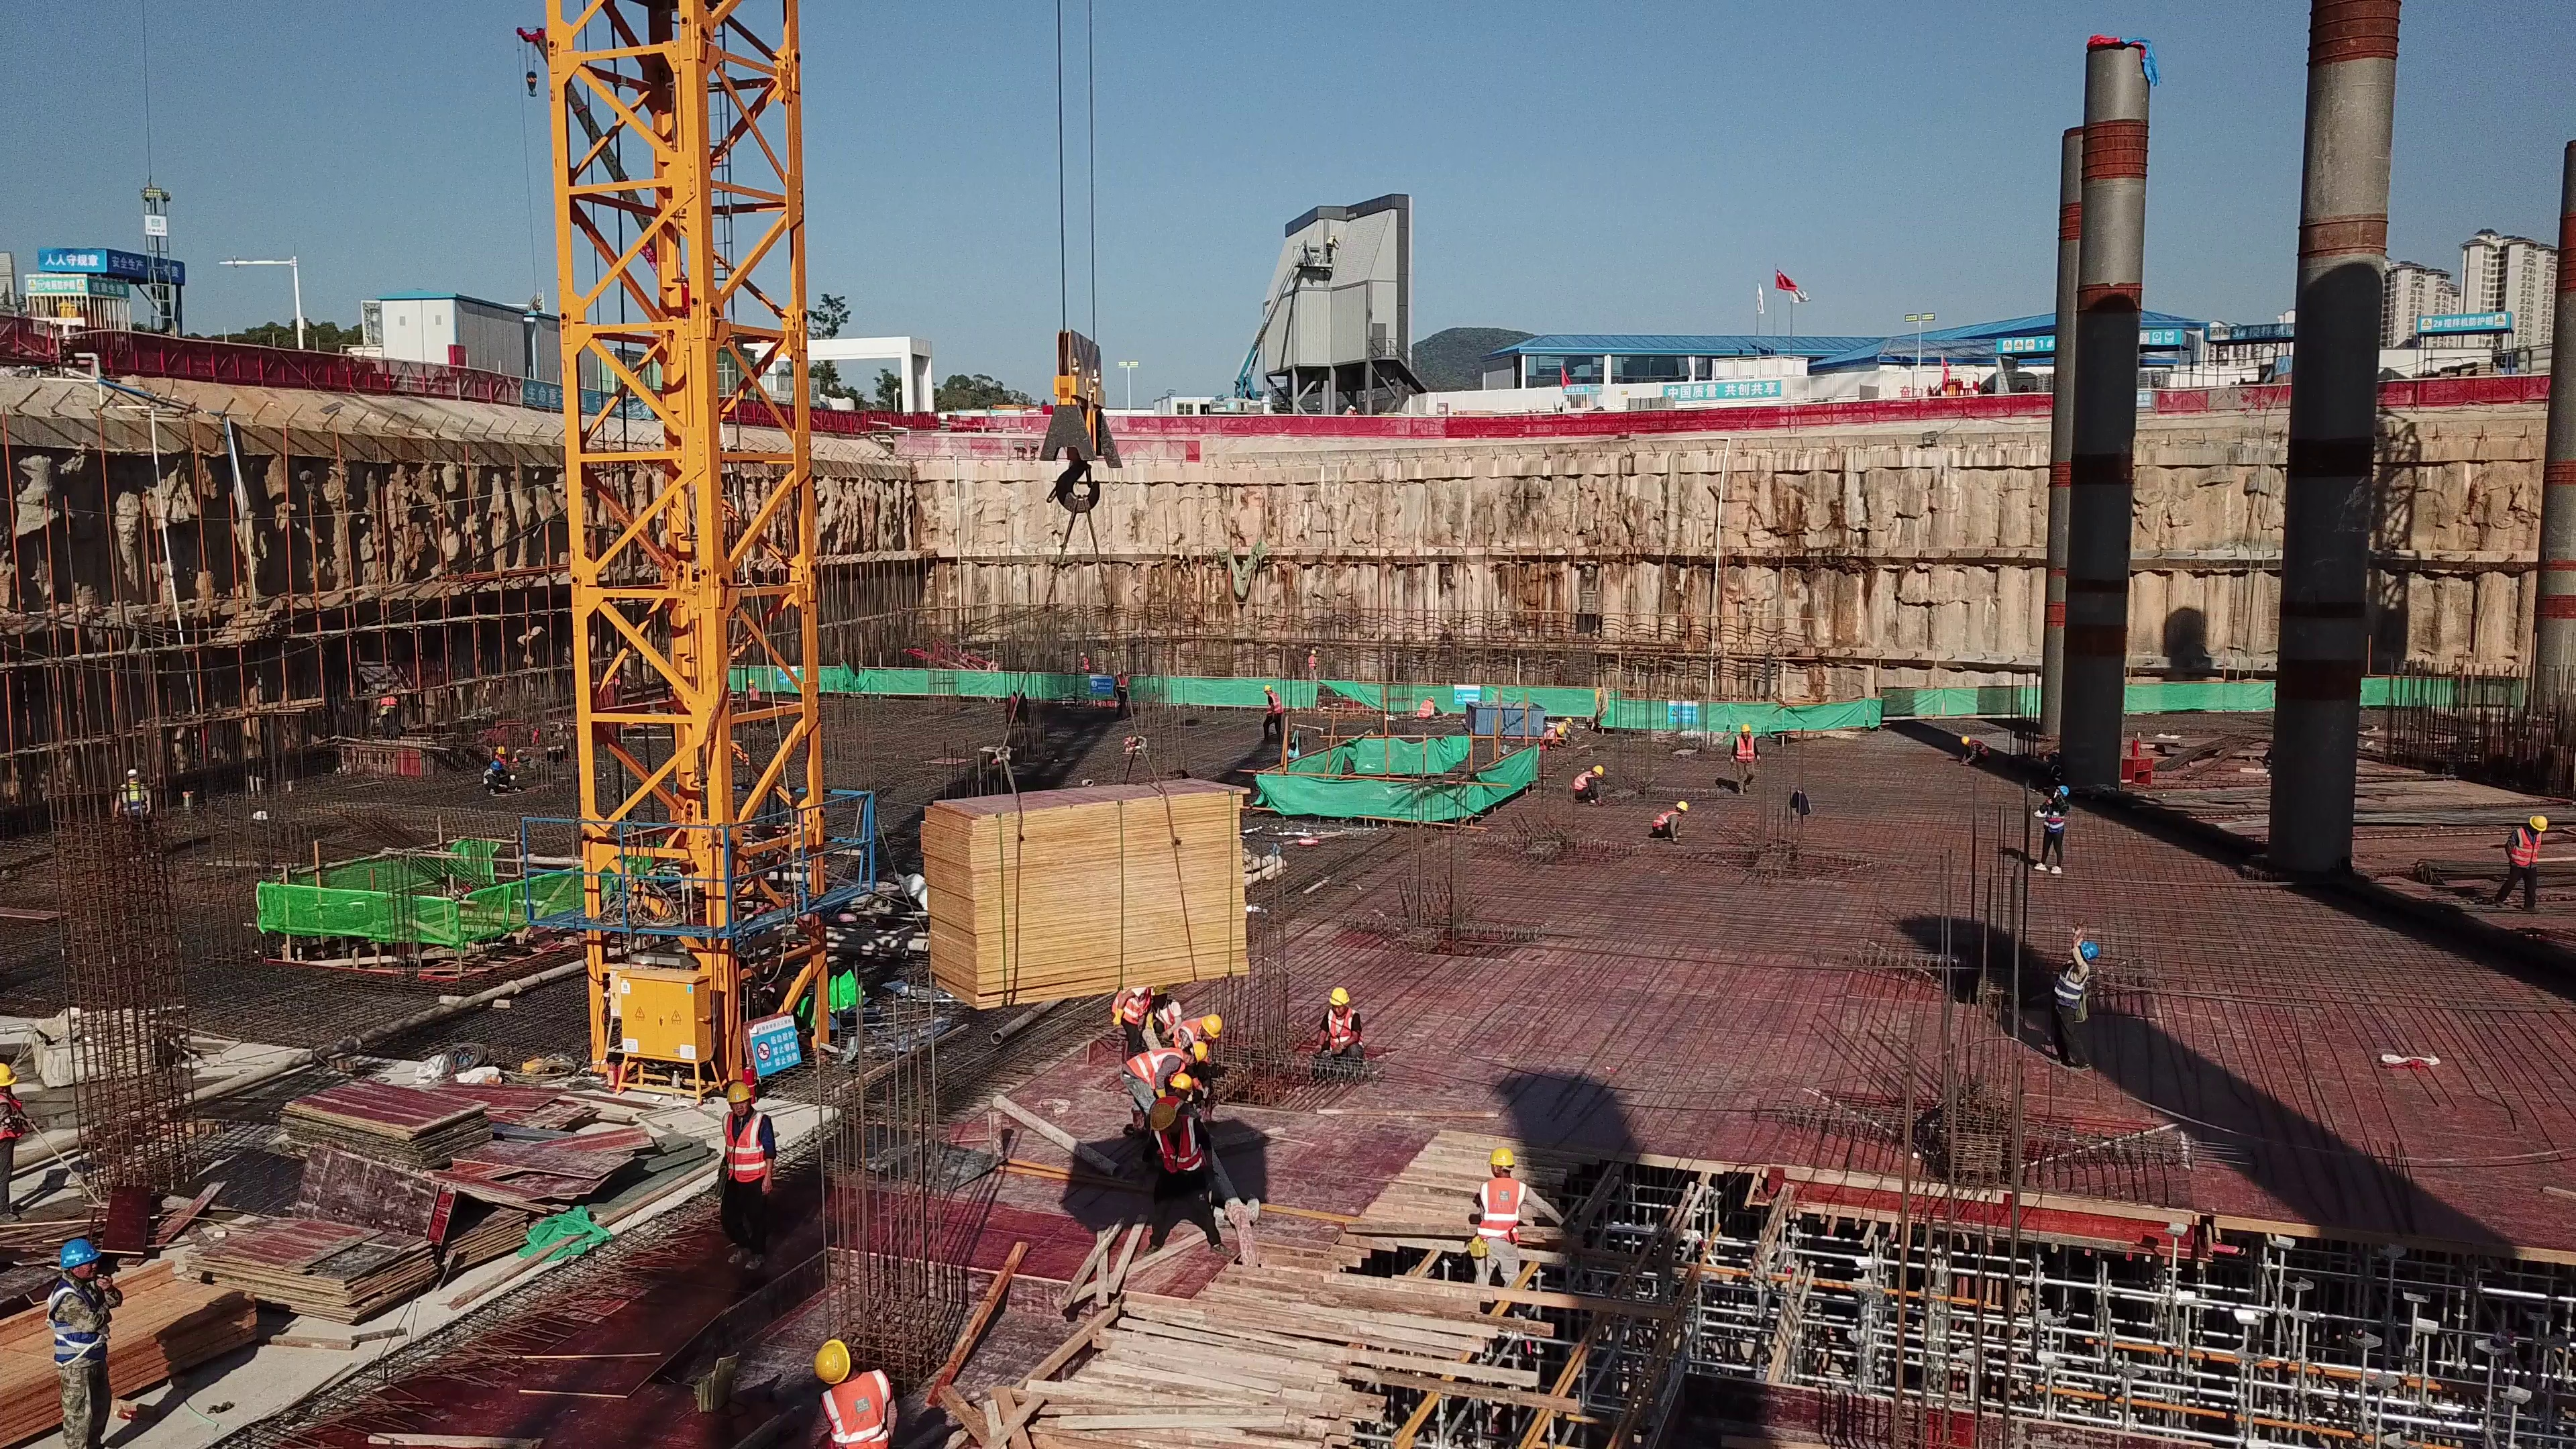board: (231, 1079, 599, 1295), (922, 784, 1265, 996)
brick: (1621, 392, 1677, 413)
ebox: (613, 959, 724, 1083)
fence: (226, 339, 504, 398), (1799, 397, 2067, 428)
helmet: (810, 1339, 856, 1387), (58, 1238, 98, 1267), (724, 1081, 757, 1102), (1487, 1150, 1521, 1169), (1201, 1012, 1227, 1039), (1171, 1071, 1196, 1095), (1, 1059, 21, 1087), (1150, 1105, 1173, 1126), (1189, 1040, 1208, 1059), (2080, 941, 2100, 961), (1329, 988, 1350, 1006), (1591, 763, 1603, 780), (1676, 799, 1690, 812), (1738, 722, 1752, 734), (1957, 735, 1968, 751), (2054, 786, 2069, 797), (125, 767, 139, 777), (1557, 727, 1568, 739), (490, 760, 503, 770), (496, 747, 506, 756), (1564, 716, 1574, 723)
hook: (1036, 328, 1122, 531)
hopper: (1467, 686, 1546, 741)
person: (36, 1218, 146, 1444), (1147, 1099, 1234, 1271), (794, 1330, 914, 1449), (719, 1076, 787, 1271), (1472, 1144, 1534, 1323), (2041, 929, 2115, 1078), (2491, 810, 2569, 915), (2025, 777, 2090, 892), (1720, 722, 1792, 804), (1320, 979, 1375, 1079), (1, 1053, 34, 1218), (1125, 1037, 1231, 1079), (114, 770, 160, 857), (1635, 795, 1709, 848), (1133, 979, 1181, 1049), (1564, 761, 1627, 815), (1950, 727, 2006, 769), (1167, 1013, 1239, 1042), (1260, 676, 1289, 742), (739, 672, 773, 723), (483, 760, 523, 794), (1409, 692, 1450, 726), (375, 692, 404, 739), (1108, 666, 1133, 718), (1541, 716, 1584, 745), (1069, 651, 1102, 676), (1306, 645, 1320, 678), (1341, 400, 1358, 427)
slogan: (526, 380, 660, 419), (2003, 331, 2184, 352), (1662, 376, 1784, 400), (44, 239, 122, 270), (113, 249, 189, 282), (2423, 311, 2512, 331), (2204, 323, 2305, 339), (88, 270, 135, 301), (25, 277, 86, 292)
vest: (823, 1379, 900, 1448), (50, 1281, 110, 1362), (724, 1110, 765, 1183), (1478, 1179, 1523, 1234), (1157, 1122, 1201, 1173), (1130, 1045, 1190, 1073), (2053, 959, 2083, 1008), (2510, 829, 2544, 868), (1114, 989, 1148, 1024), (1, 1093, 23, 1140), (1327, 1014, 1357, 1046), (1734, 734, 1760, 767), (2046, 802, 2068, 835), (121, 784, 143, 816), (1176, 1012, 1200, 1039), (1572, 769, 1593, 794), (1416, 701, 1438, 716), (1652, 811, 1677, 824), (1970, 739, 1988, 756), (2527, 814, 2548, 828), (378, 698, 397, 710), (1541, 727, 1557, 741), (484, 769, 496, 784)
wood: (1023, 1281, 1531, 1435)
